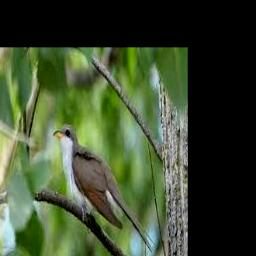Cuckoo: (53, 124, 154, 252)
